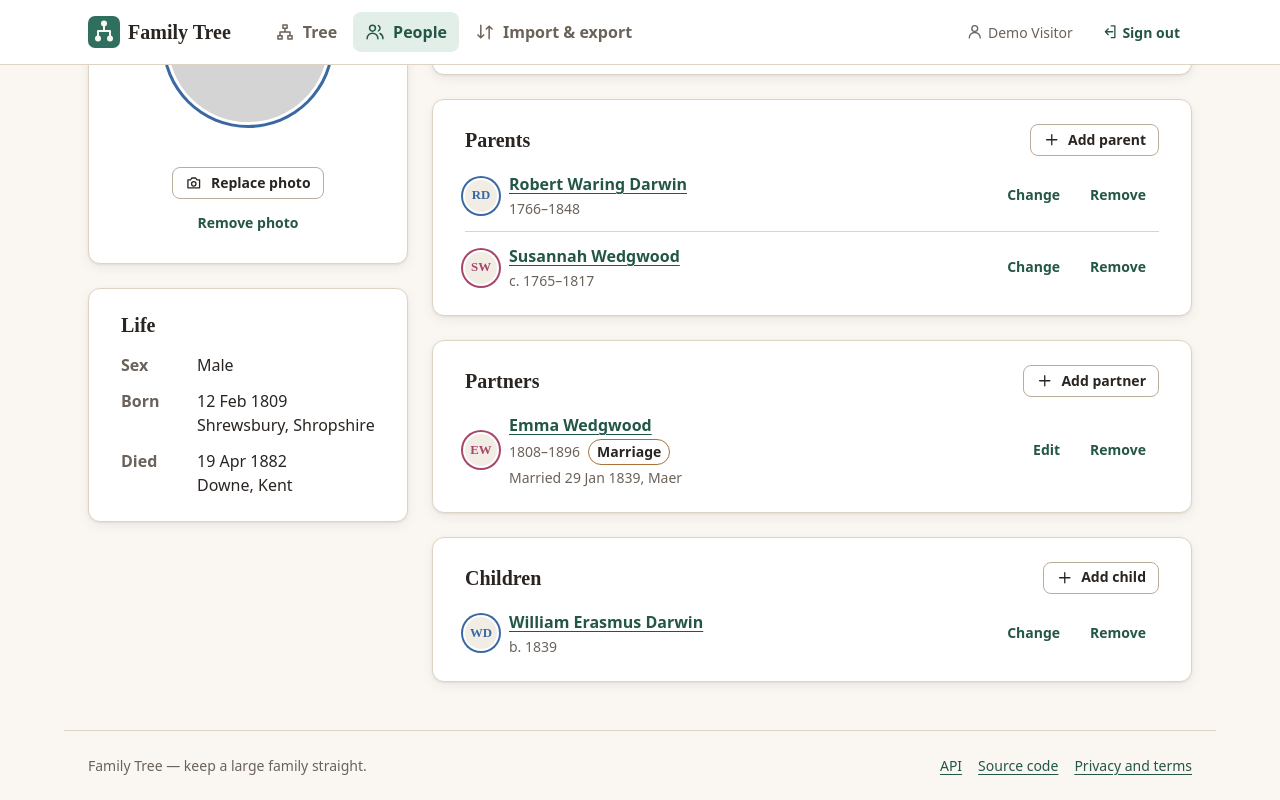
a partnership can be given an end
(page scrolled)
Click the button named "Edit Emma Wedgwood" at (1047, 450), box [1020,434,1073,466]
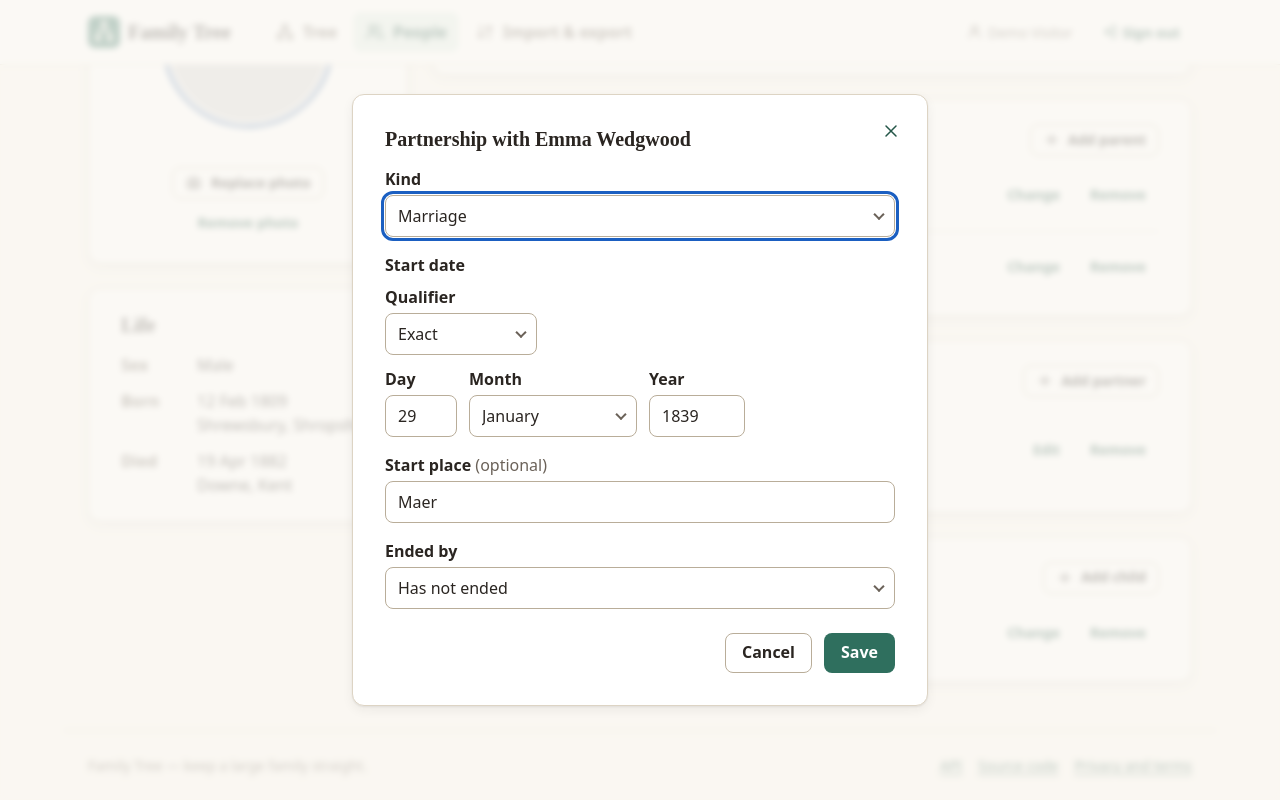
Now the dropdown labelled "Kind" shows "Marriage", box [385,195,895,237]
Select "Separation" in the dropdown labelled "Ended by" at (640, 588), box [385,567,895,609]
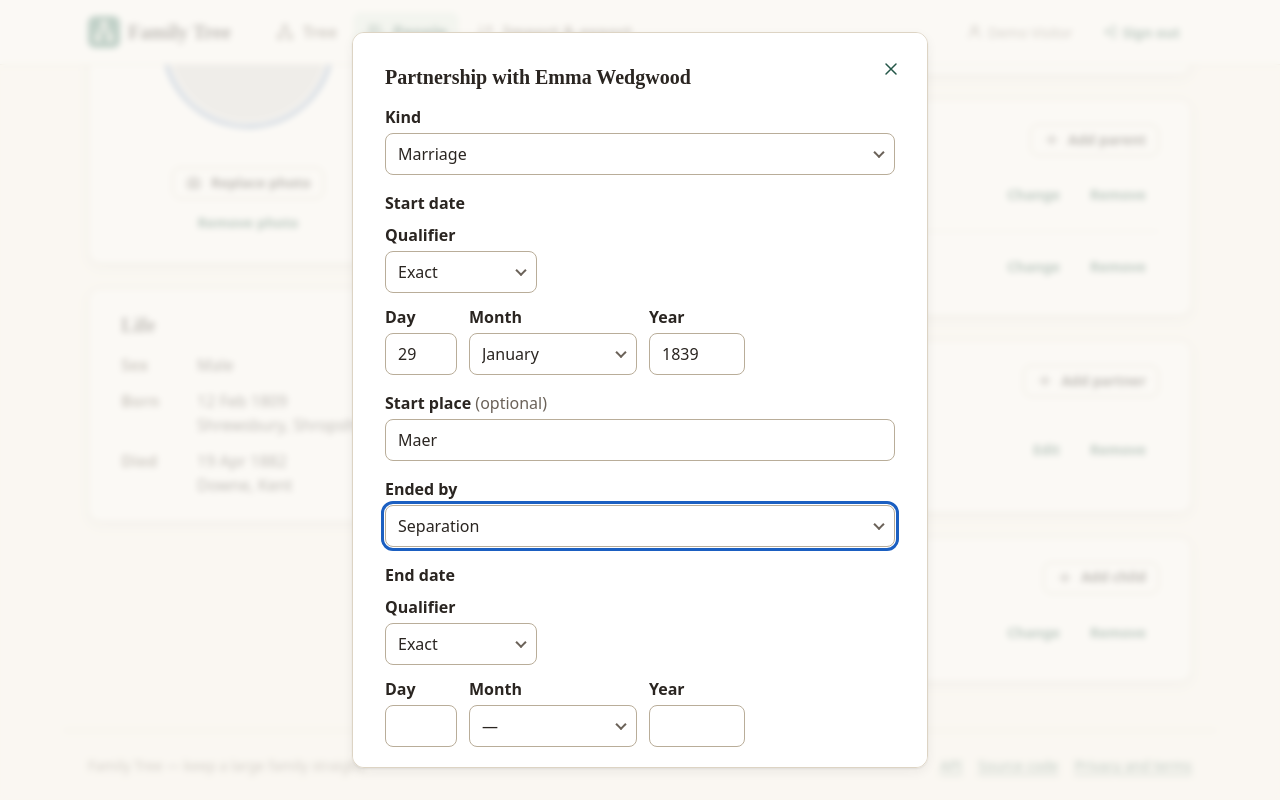
Type "1850" into the field labelled "Year" below "End date" at (697, 726), box [649,705,745,747]
(page scrolled)
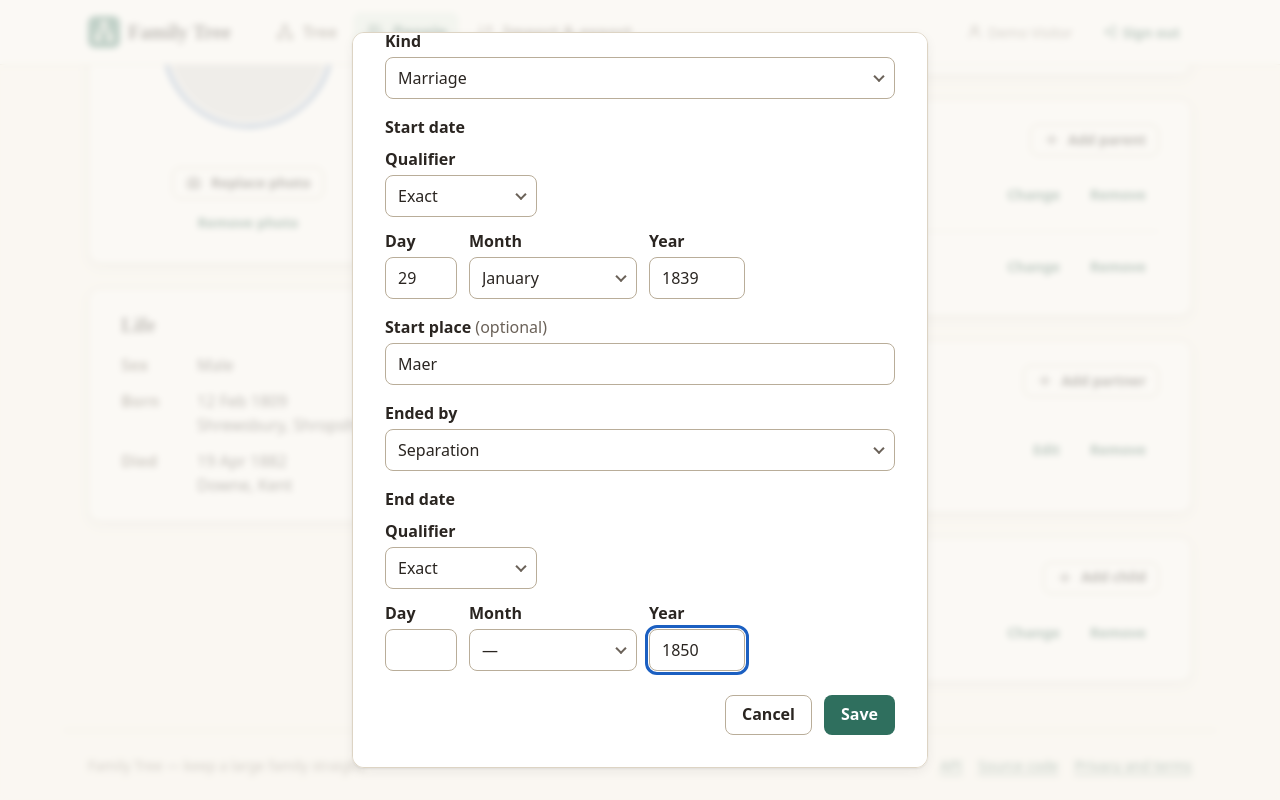
Click the button "Save" at (860, 715), box [824,695,895,735]
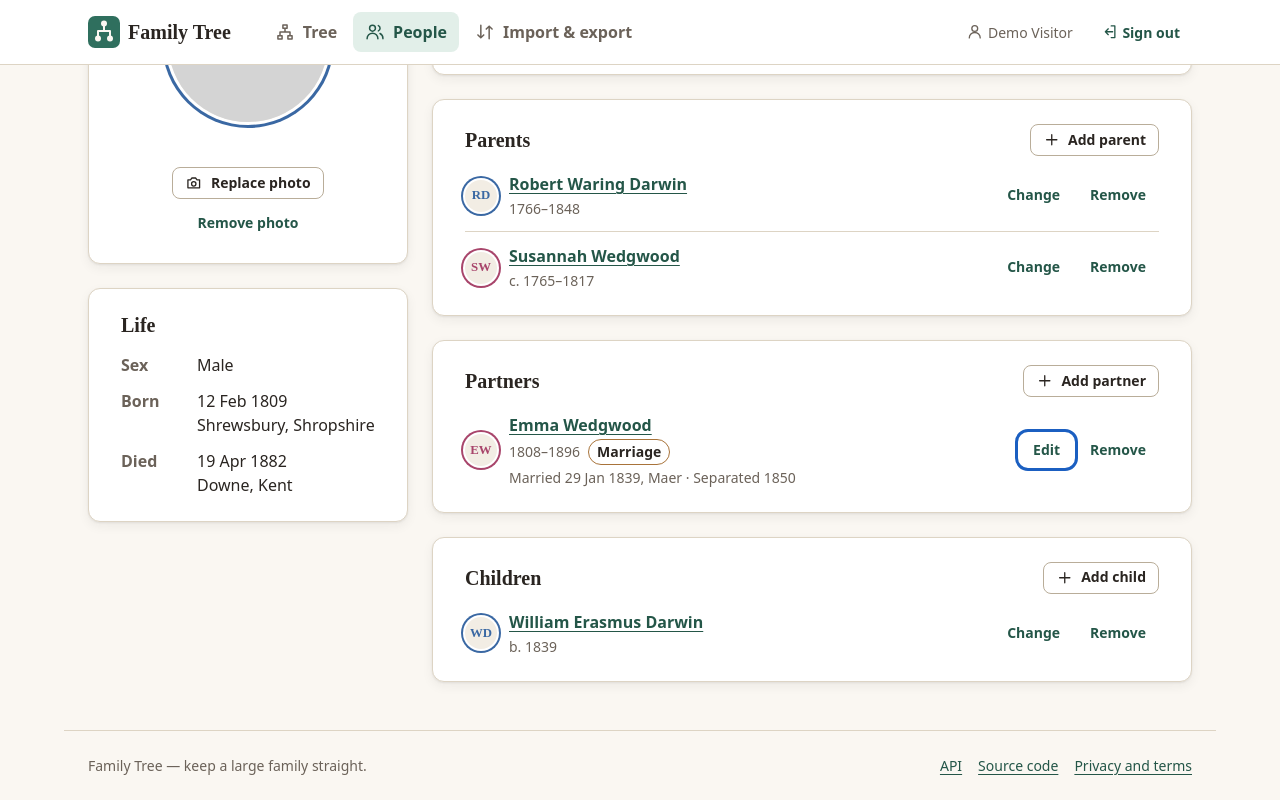
Now the text "Married 29 Jan 1839, Maer · Separated 1850" is shown, box [509,468,796,487]
